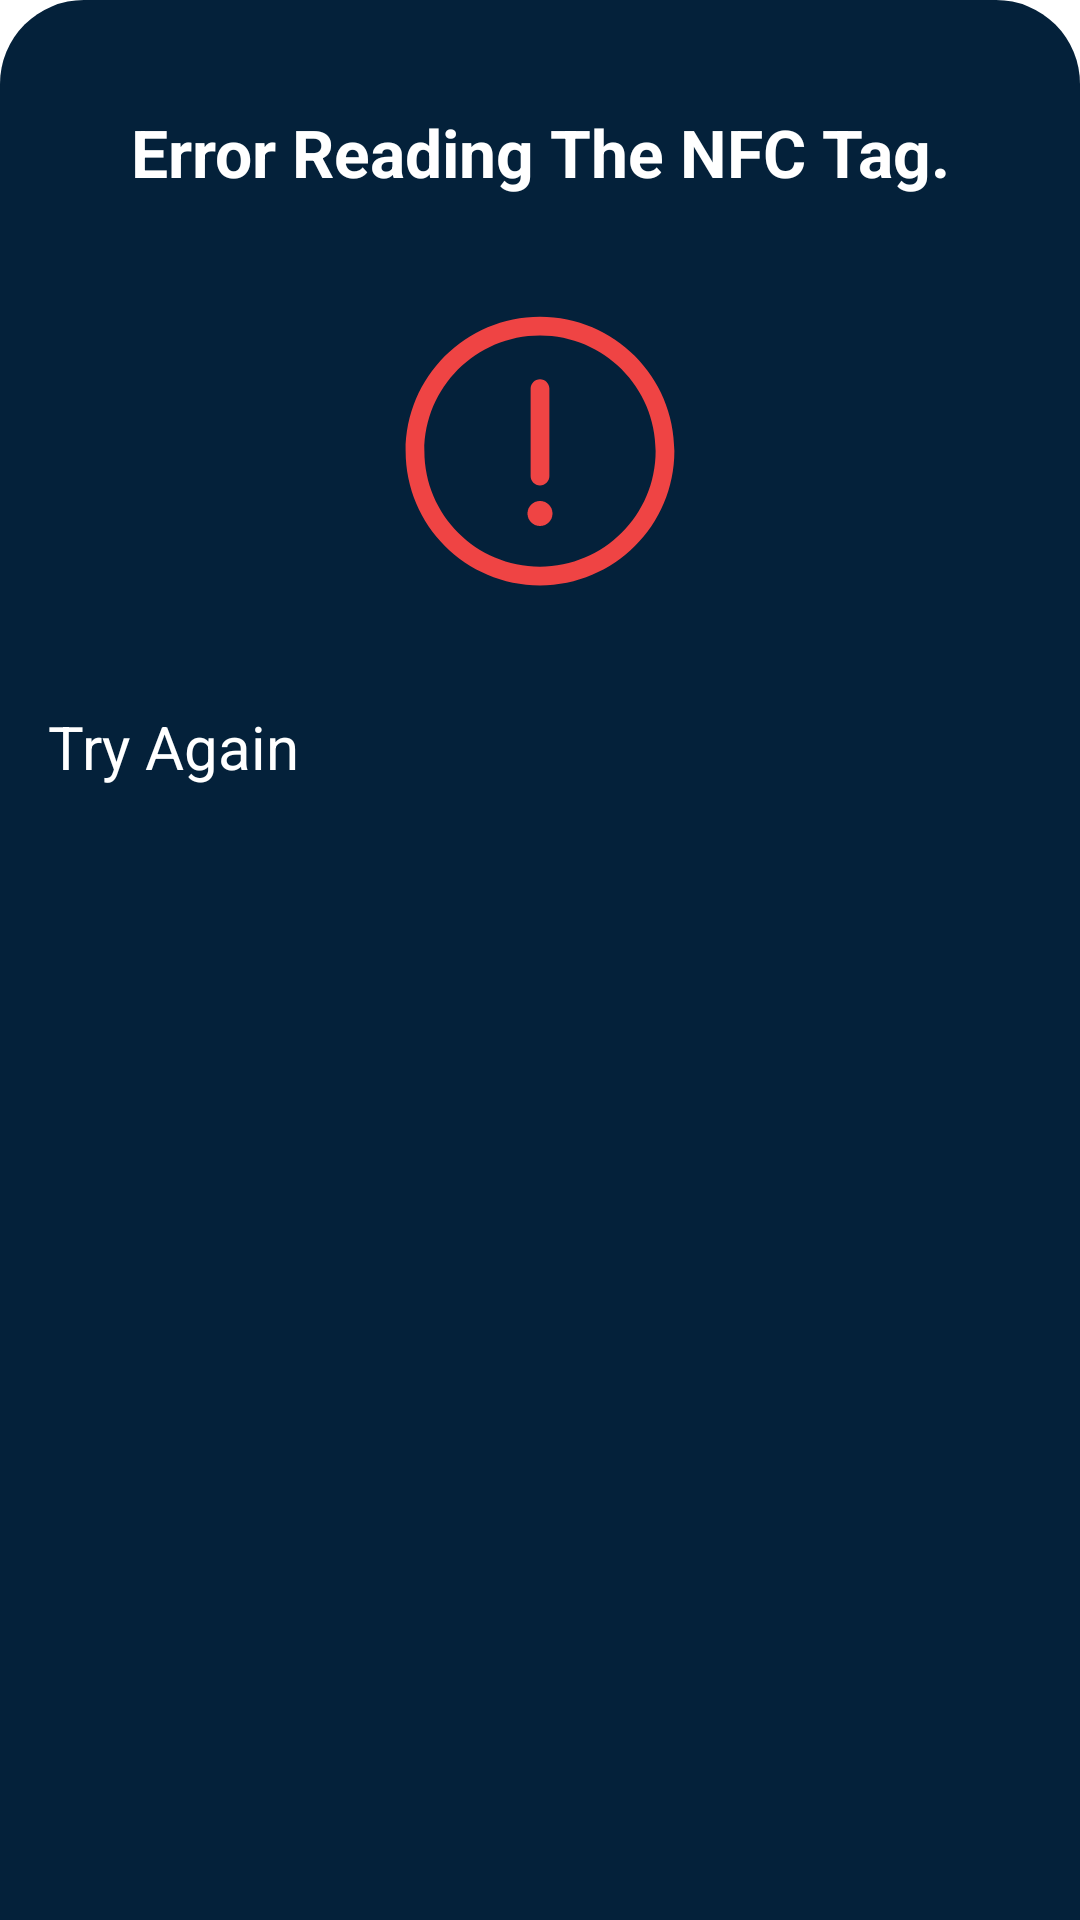

Locate icon controls on the screen. Image size 1080x1920, boxes as (x1, y1, x2, y2).
warning: (405, 316, 675, 586)
